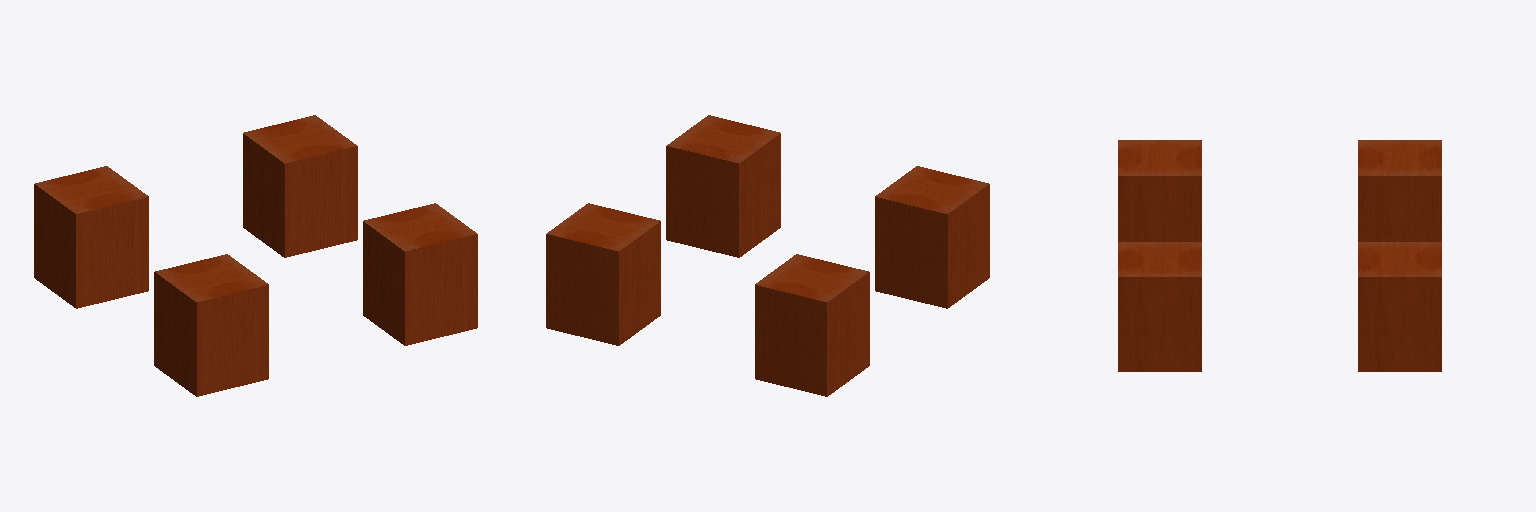
The picture shows the model from 3 angles: view 1: azimuth 30°, elevation 25°; view 2: azimuth 150°, elevation 25°; view 3: azimuth 270°, elevation 25°; orthographic projection.
Visible parts, largest first — view 1: pCube4, pCube2, pCube3, pCube1; view 2: pCube3, pCube1, pCube4, pCube2; view 3: pCube4, pCube1, pCube3, pCube2.
Boxes of the visible parts, x1=… form: pCube4: x1=243, y1=115, x2=357, y2=257; pCube2: x1=154, y1=254, x2=268, y2=396; pCube3: x1=34, y1=166, x2=148, y2=308; pCube1: x1=363, y1=203, x2=477, y2=345; pCube3: x1=755, y1=254, x2=869, y2=396; pCube1: x1=666, y1=115, x2=780, y2=257; pCube4: x1=546, y1=203, x2=660, y2=345; pCube2: x1=875, y1=166, x2=989, y2=308; pCube4: x1=1358, y1=242, x2=1441, y2=371; pCube1: x1=1118, y1=242, x2=1201, y2=371; pCube3: x1=1358, y1=140, x2=1441, y2=241; pCube2: x1=1118, y1=140, x2=1201, y2=241.
Bounding box in the file's own units: 5.4 × 1.73 × 5.4.
1 materials, 1 textured.